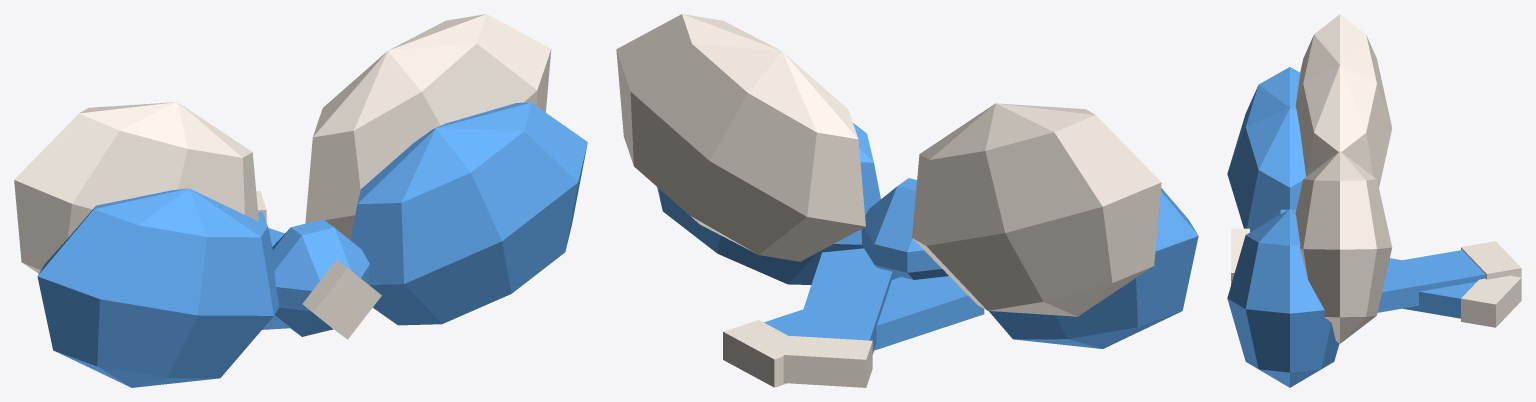
File: CleanACat_Bow_SkyDouble.fbx
3 views of the same model, side by side, from view 1: azimuth 30°, elevation 25°; view 2: azimuth 150°, elevation 25°; view 3: azimuth 270°, elevation 25° (orthographic). The views are drawn at different scales.
Parts seen in each view (by area): view 1: CleanACat_Bow_SkyDouble; view 2: CleanACat_Bow_SkyDouble; view 3: CleanACat_Bow_SkyDouble.
Part boxes in pixels (x1,y1,x2,y2): CleanACat_Bow_SkyDouble: (14,14,587,387); CleanACat_Bow_SkyDouble: (616,14,1198,387); CleanACat_Bow_SkyDouble: (1227,14,1521,387).
Size of the model in its own units: 0.8504 by 0.3848 by 0.4698.
Materials: 1 (1 with a texture image).
